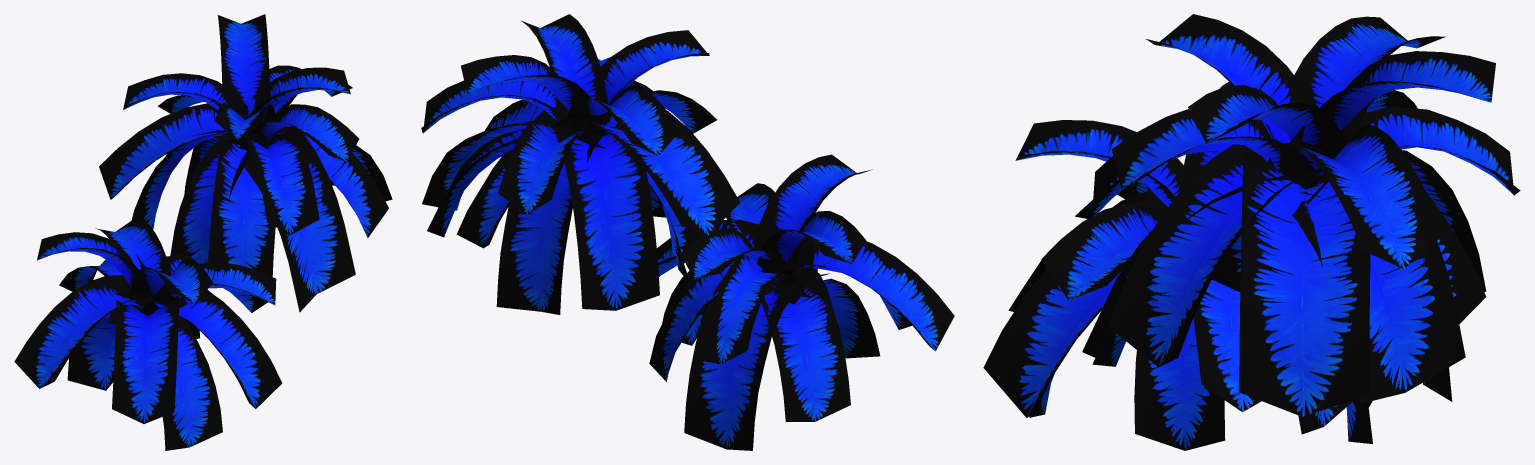
Rendered from Homeworld_Exterior_Common_Plant_Tree_15_Leaf_Lod0.fbx.
3 renders of one model, left to right at view 1: azimuth 30°, elevation 25°; view 2: azimuth 150°, elevation 25°; view 3: azimuth 270°, elevation 25°, orthographic. The views are drawn at different scales.
Parts seen in each view (by area): view 1: Homeworld_Exterior_Common_Plant_Tree_15_Leaf_Lod0; view 2: Homeworld_Exterior_Common_Plant_Tree_15_Leaf_Lod0; view 3: Homeworld_Exterior_Common_Plant_Tree_15_Leaf_Lod0.
Part boxes in pixels (x1,y1,x2,y2): Homeworld_Exterior_Common_Plant_Tree_15_Leaf_Lod0: [14, 14, 392, 450]; Homeworld_Exterior_Common_Plant_Tree_15_Leaf_Lod0: [421, 14, 954, 450]; Homeworld_Exterior_Common_Plant_Tree_15_Leaf_Lod0: [983, 14, 1520, 450].
Bounding box in the file's own units: 6.77 × 5.14 × 4.94.
